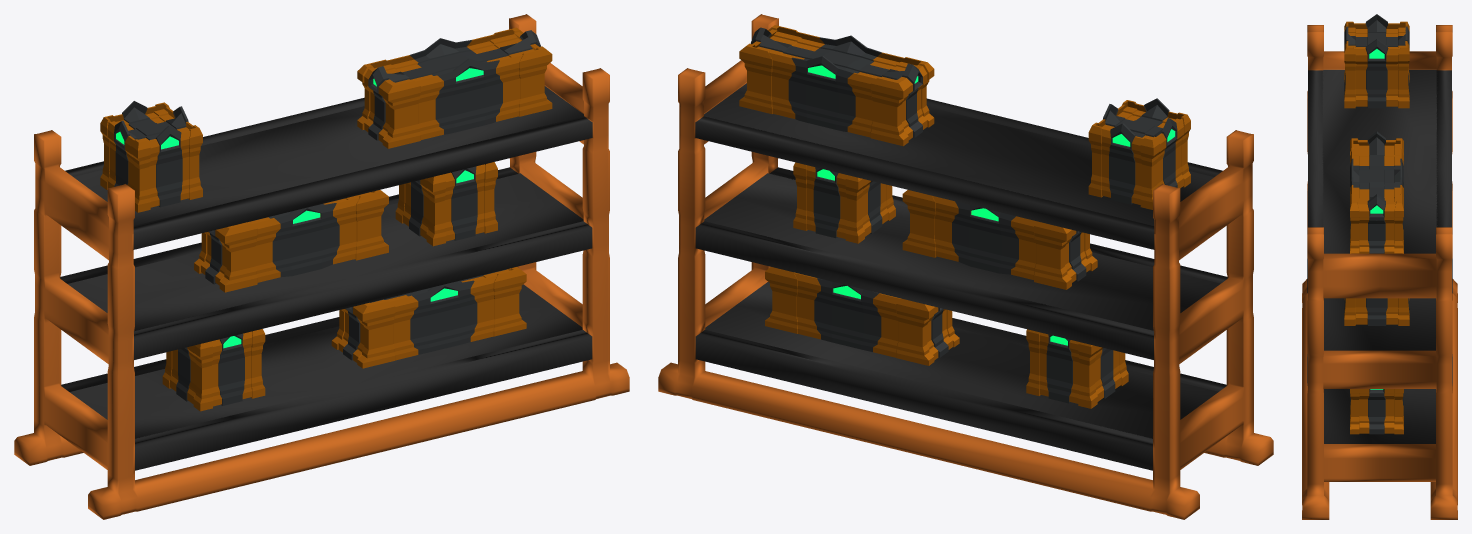
The model's file is Filled Shelf 1.fbx.
3 views of the same model, side by side, from view 1: azimuth 30°, elevation 25°; view 2: azimuth 150°, elevation 25°; view 3: azimuth 270°, elevation 25° (orthographic). The views are drawn at different scales.
Parts seen in each view (by area): view 1: Cube.016, Cube.025, Cube.030, Cube.022, Cube.031, Cube.027, Cube.029; view 2: Cube.016, Cube.025, Cube.030, Cube.022, Cube.031, Cube.027, Cube.029; view 3: Cube.016, Cube.025, Cube.031, Cube.022, Cube.027.
Part boxes in pixels (bbox=[...]): Cube.016: bbox=[14, 14, 629, 519]; Cube.025: bbox=[357, 27, 552, 148]; Cube.030: bbox=[194, 190, 388, 292]; Cube.022: bbox=[331, 267, 526, 368]; Cube.031: bbox=[100, 101, 202, 212]; Cube.027: bbox=[395, 162, 497, 246]; Cube.029: bbox=[162, 329, 265, 411]; Cube.016: bbox=[658, 14, 1273, 519]; Cube.025: bbox=[739, 25, 934, 146]; Cube.030: bbox=[902, 190, 1097, 289]; Cube.022: bbox=[765, 267, 959, 365]; Cube.031: bbox=[1088, 98, 1190, 209]; Cube.027: bbox=[793, 162, 895, 243]; Cube.029: bbox=[1026, 329, 1128, 408]; Cube.016: bbox=[1302, 25, 1457, 519]; Cube.025: bbox=[1350, 131, 1403, 253]; Cube.031: bbox=[1344, 14, 1409, 108]; Cube.022: bbox=[1350, 389, 1403, 434]; Cube.027: bbox=[1344, 298, 1409, 325].
Bounding box in the file's own units: 1038 × 665 × 305.
